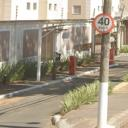speed_limit_40: (92, 13, 114, 33)
